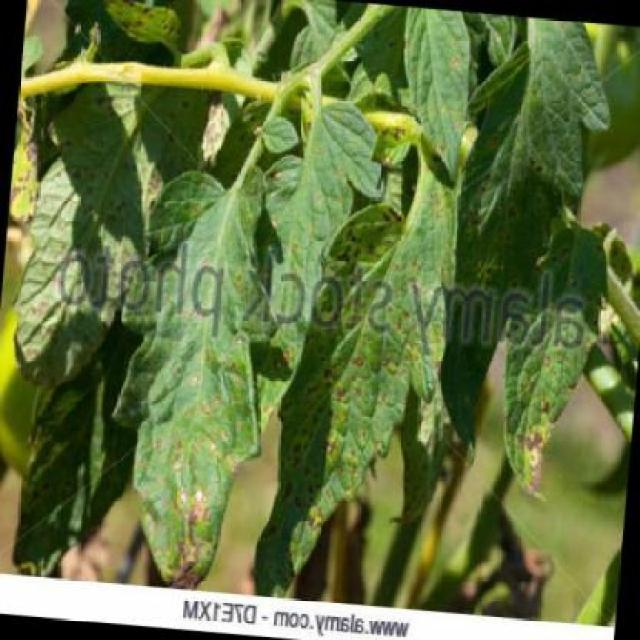Septoria leaf spot: (256, 126, 478, 612), (89, 140, 283, 598), (5, 51, 220, 395), (243, 83, 379, 388), (494, 198, 624, 517)
